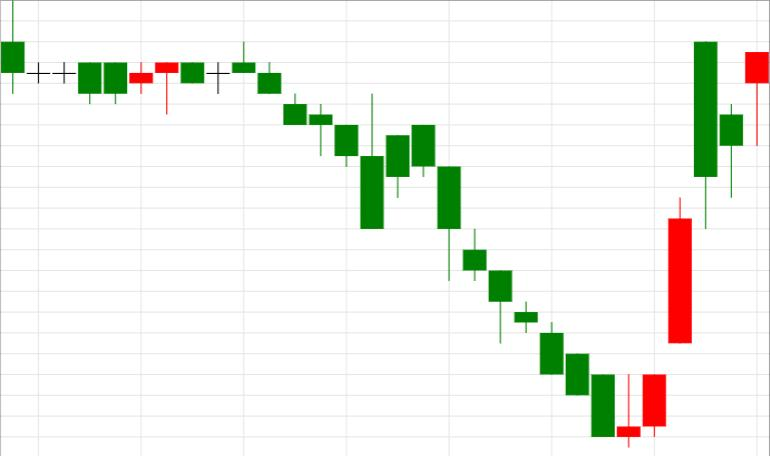morning_star_rise: (411, 124, 666, 447)
